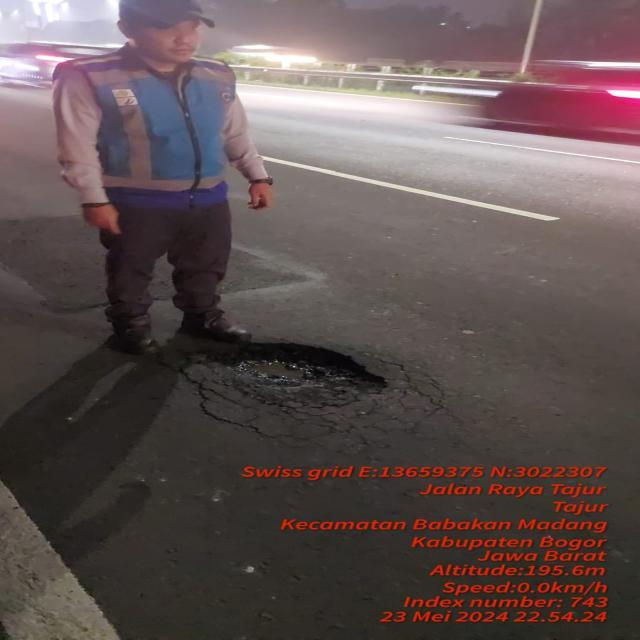Buraco: (190, 339, 394, 413)
